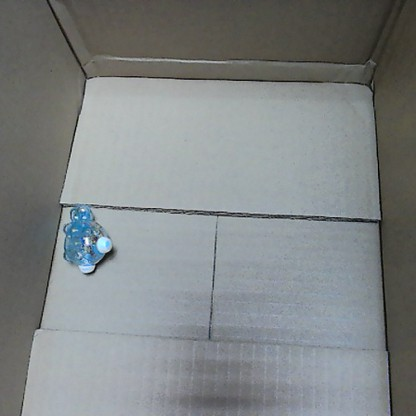bluefish: (56, 203, 115, 276)
